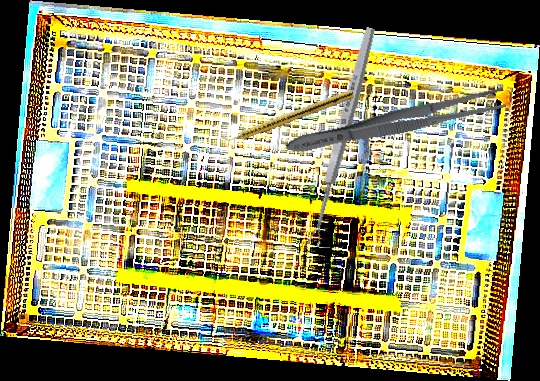Dressing Forceps: (282, 82, 510, 162)
Handpiece: (221, 86, 355, 148)
Surgical Spoon: (305, 25, 378, 248)
